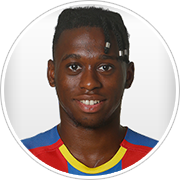face: (45, 36, 137, 123)
